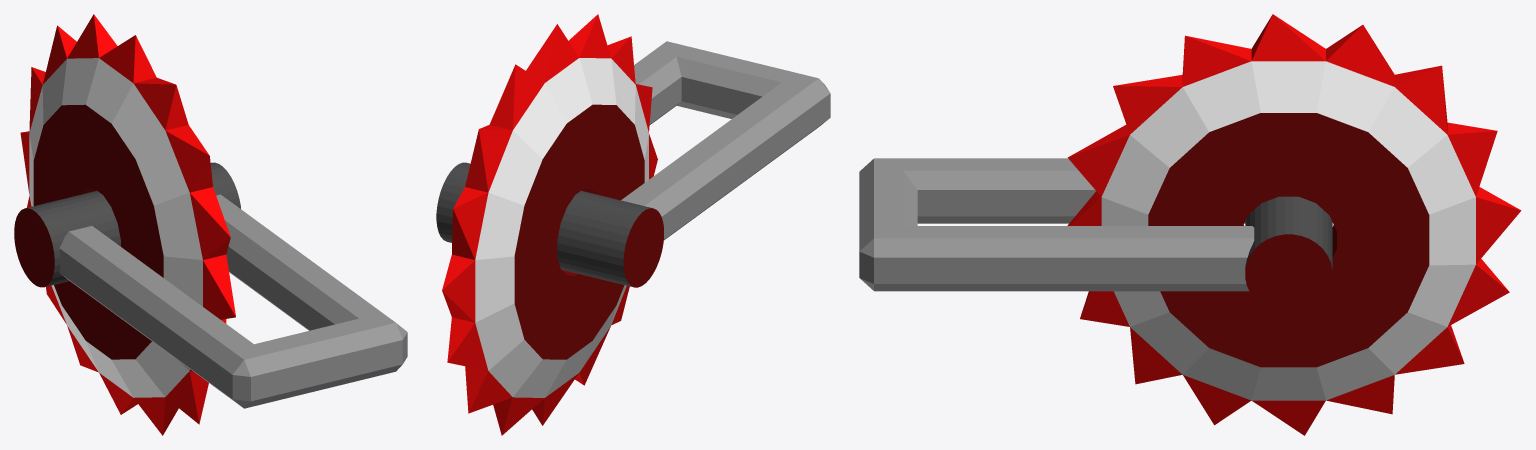
Rendered from Saw.fbx.
3 renders of one model, left to right at view 1: azimuth 30°, elevation 25°; view 2: azimuth 150°, elevation 25°; view 3: azimuth 270°, elevation 25°, orthographic. The views are drawn at different scales.
Parts seen in each view (by area): view 1: Saw, Saw_Handle; view 2: Saw, Saw_Handle; view 3: Saw, Saw_Handle.
Part boxes in pixels (<box>): Saw: <box>20,14,235,435</box>; Saw_Handle: <box>14,162,407,408</box>; Saw: <box>442,14,657,435</box>; Saw_Handle: <box>436,41,830,287</box>; Saw: <box>1067,14,1521,435</box>; Saw_Handle: <box>859,158,1332,313</box>.
Size of the model in its own units: 50 by 99.96 by 142.
1 material, 1 textured.
